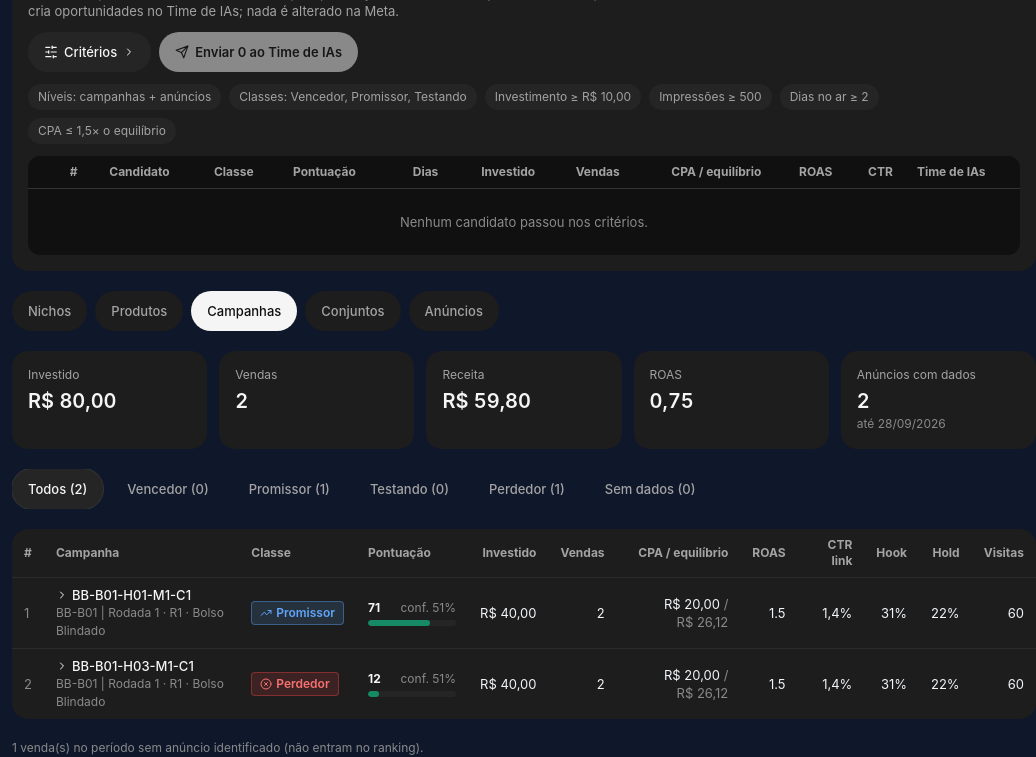
Test: NORQVA-0017 — Base de campanhas › loads the ranking, filters by class and expands the detail with the creative
This screenshot has width=1036, height=757.
(page scrolled)
Check: the number of rows with test id "campaign-base-row" is 2, box x1=12 y1=578 x2=1035 y2=648; x1=12 y1=648 x2=1035 y2=719
Check: the text "1 venda(s) no período sem anúncio identificado" is shown, box x1=12 y1=740 x2=424 y2=755
Click the button "Perdedor (1)": point(527, 489) x1=473 y1=469 x2=581 y2=509
(page scrolled)
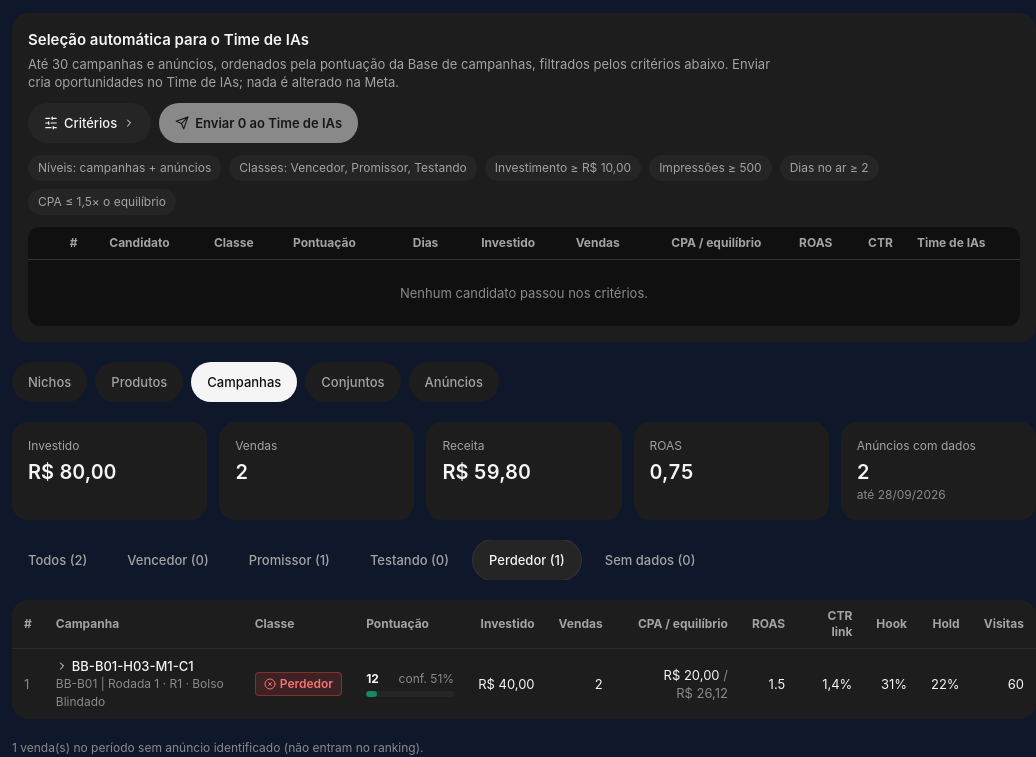
Check: the number of rows with test id "campaign-base-row" is 1, box x1=12 y1=648 x2=1035 y2=719
Click the button "Todos (2)": point(58, 560) x1=12 y1=540 x2=103 y2=580
(page scrolled)
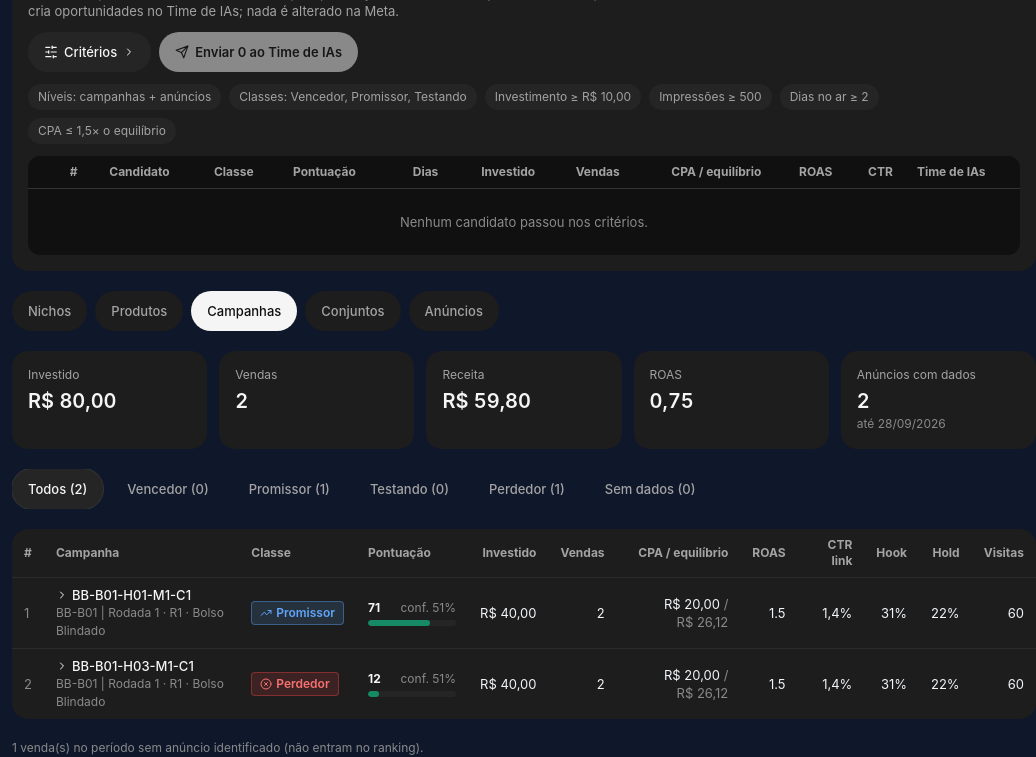
Click the text "BB-B01-H01-M1-C1": point(123, 595) x1=56 y1=587 x2=191 y2=603
(page scrolled)
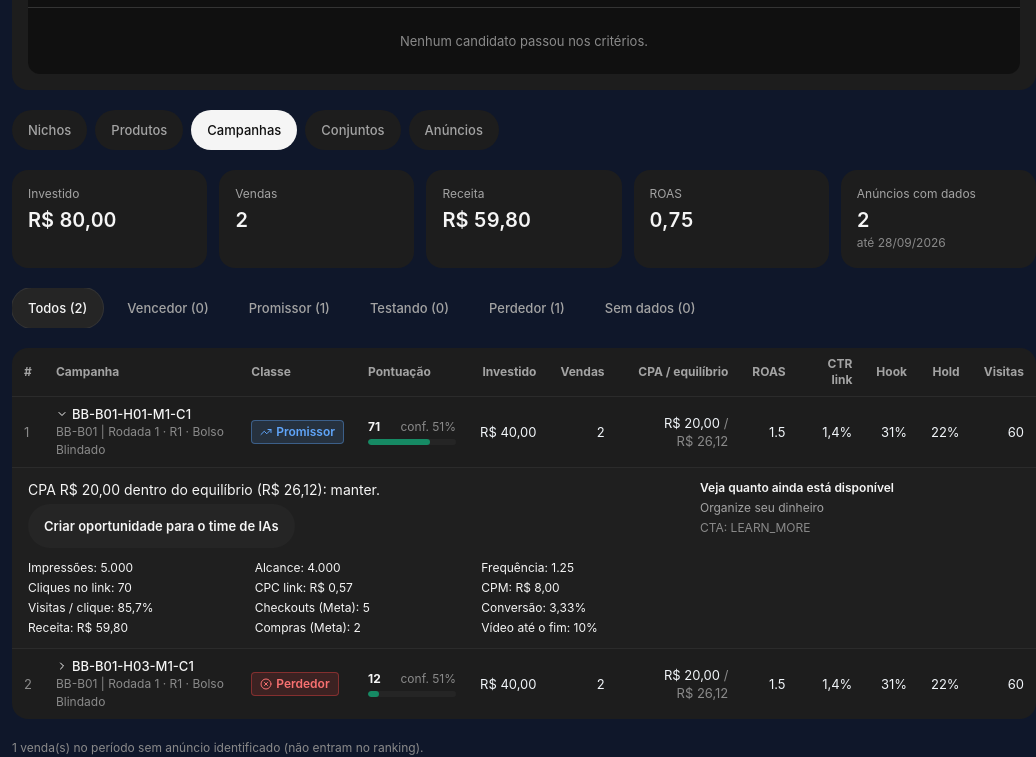
Check: the element with test id "campaign-base-detail" shows "dentro do equilíbrio", box x1=28 y1=481 x2=380 y2=498
Check: the element with test id "campaign-base-detail" shows "Organize seu dinheiro", box x1=700 y1=500 x2=824 y2=515
